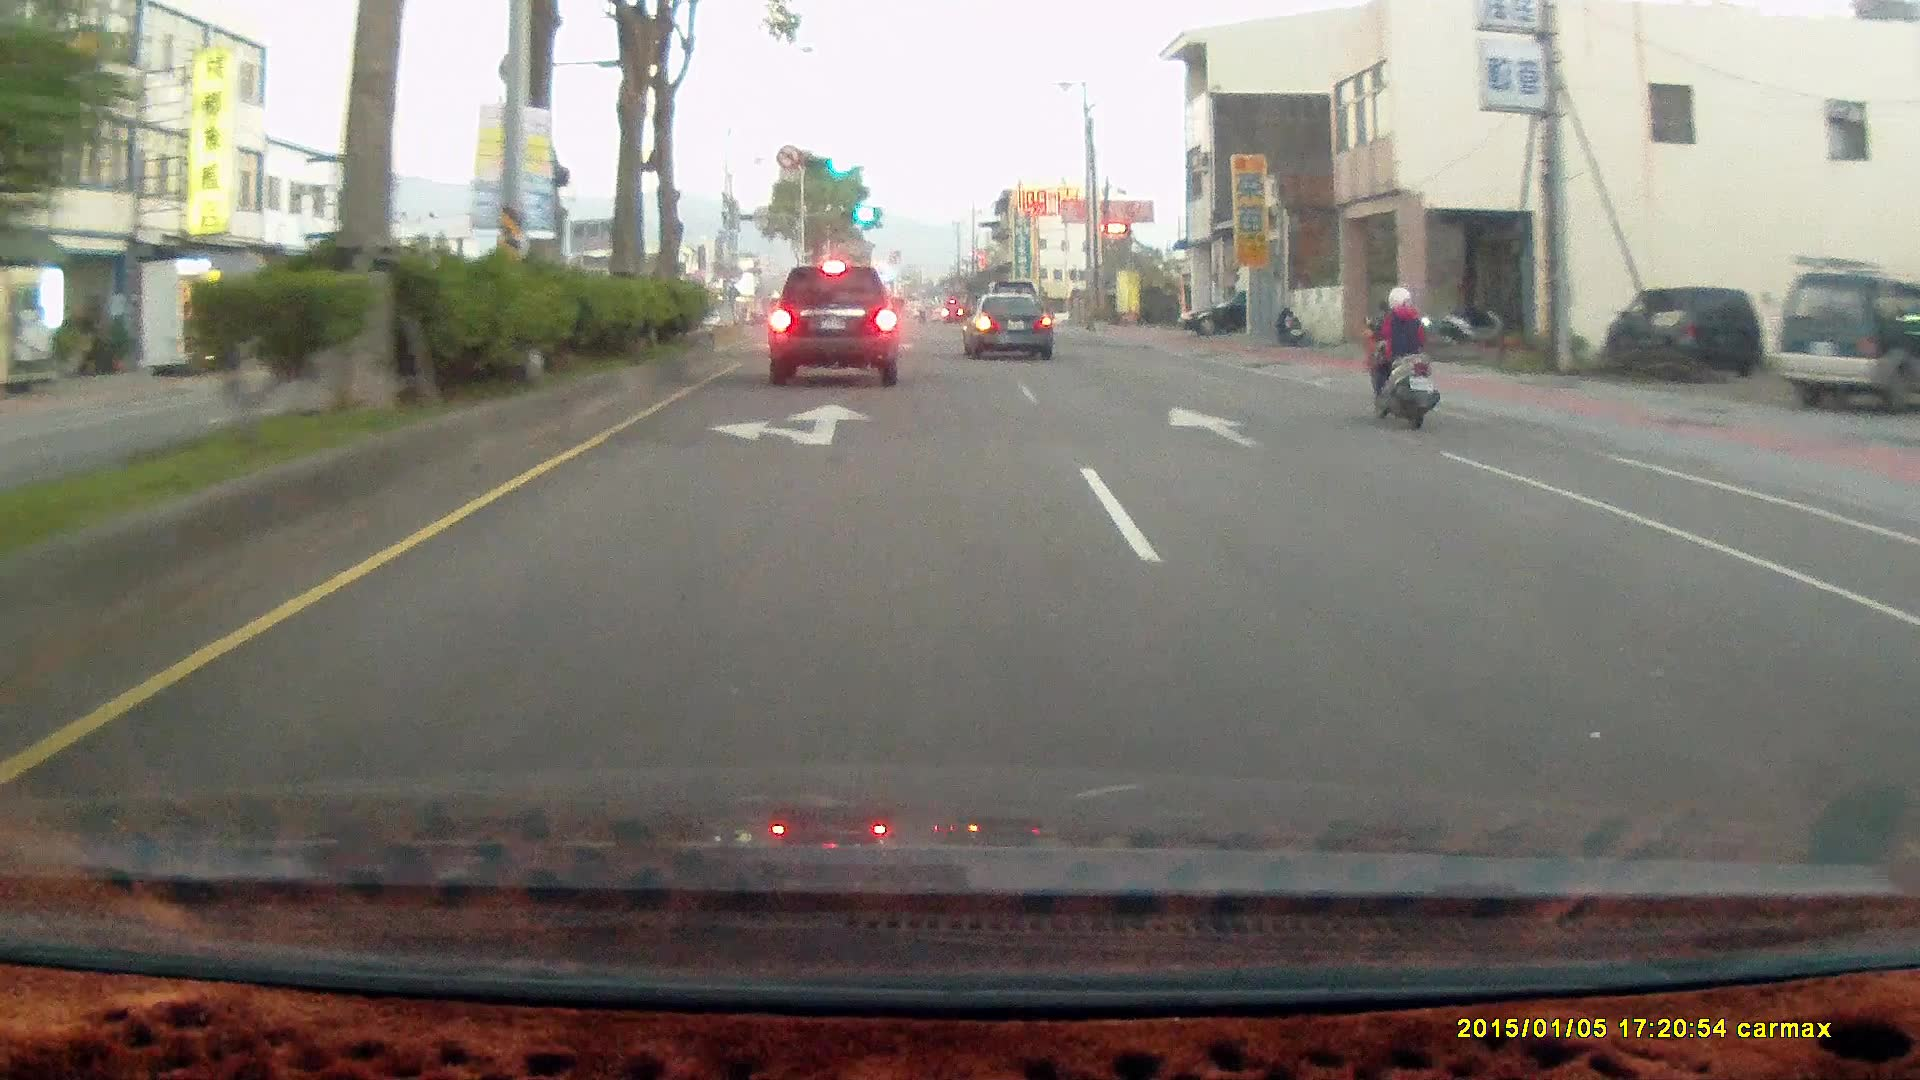rider: (1348, 273, 1452, 439), (1361, 282, 1440, 427)
vehicle: (1775, 271, 1920, 408), (1779, 272, 1916, 408), (770, 262, 903, 384), (771, 257, 903, 379), (1602, 282, 1763, 378), (1602, 281, 1761, 376), (960, 292, 1057, 362), (1178, 288, 1297, 337), (961, 292, 1050, 358), (1178, 289, 1250, 339)
